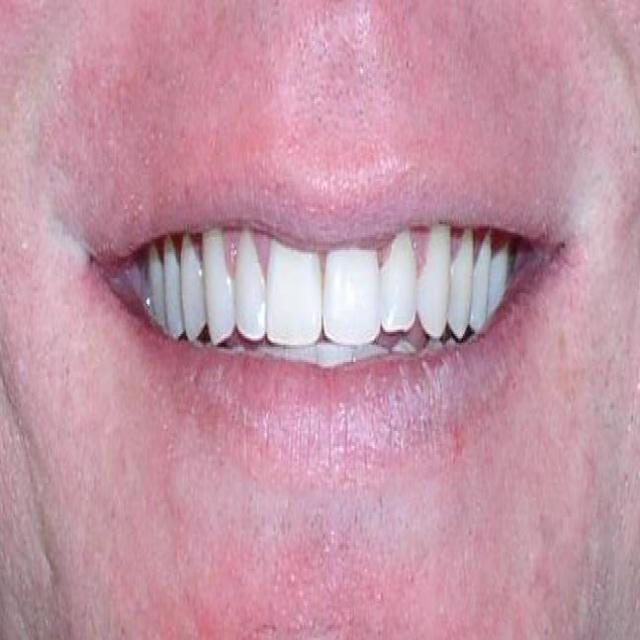tooth: (265, 241, 325, 345), (325, 252, 381, 343), (376, 239, 417, 341), (418, 220, 452, 332), (443, 233, 474, 340), (462, 233, 494, 336), (205, 233, 236, 336), (237, 231, 266, 336), (180, 233, 209, 336), (165, 229, 184, 336), (488, 237, 511, 321), (142, 252, 168, 326)
